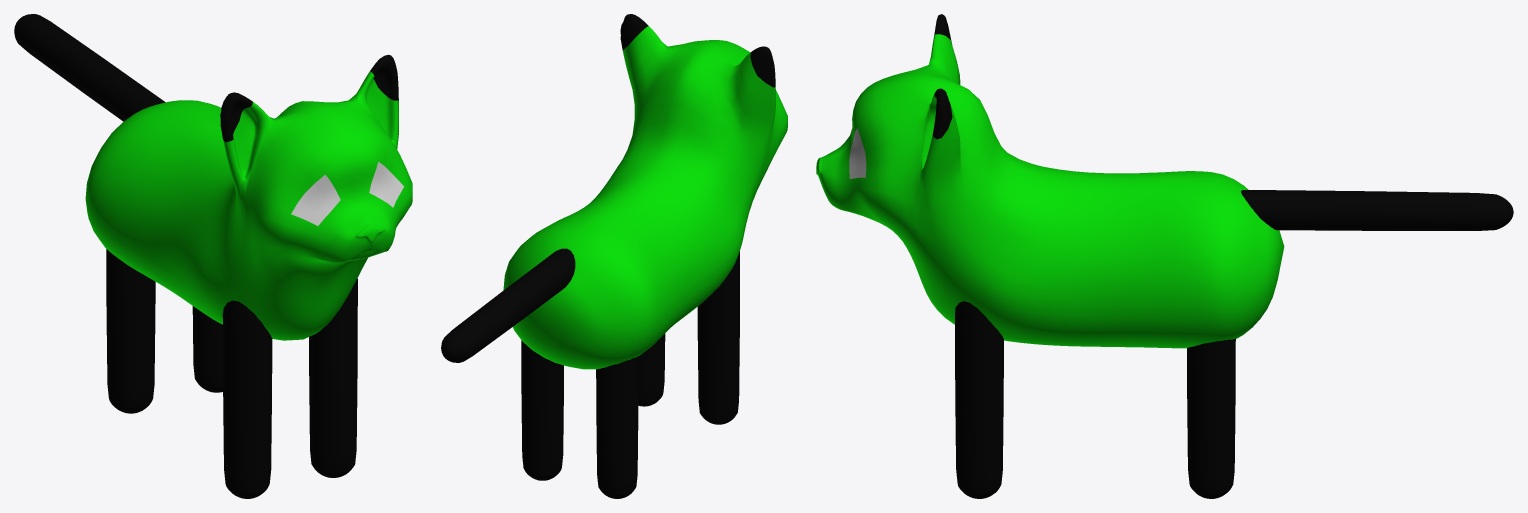
File: Cat_Model.fbx
The picture shows the model from 3 angles, left to right: view 1: azimuth 30°, elevation 25°; view 2: azimuth 150°, elevation 25°; view 3: azimuth 270°, elevation 25°; orthographic projection. The views are drawn at different scales.
Parts seen in each view (by area): view 1: Cat_Model, Cat_Eyes_UV; view 2: Cat_Model; view 3: Cat_Model.
Boxes of the visible parts, x1,y1,x2,y2 form: Cat_Model: (14,14,412,498); Cat_Eyes_UV: (291,162,403,225); Cat_Model: (441,14,787,498); Cat_Model: (816,14,1513,498).
Size of the model in its own units: 1.71 by 3.95 by 5.89.
